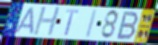8: (100, 10, 120, 40)
A: (14, 6, 36, 35)
B: (115, 11, 140, 41)
H: (32, 6, 62, 37)
I: (84, 8, 99, 39)
T: (63, 8, 80, 37)
